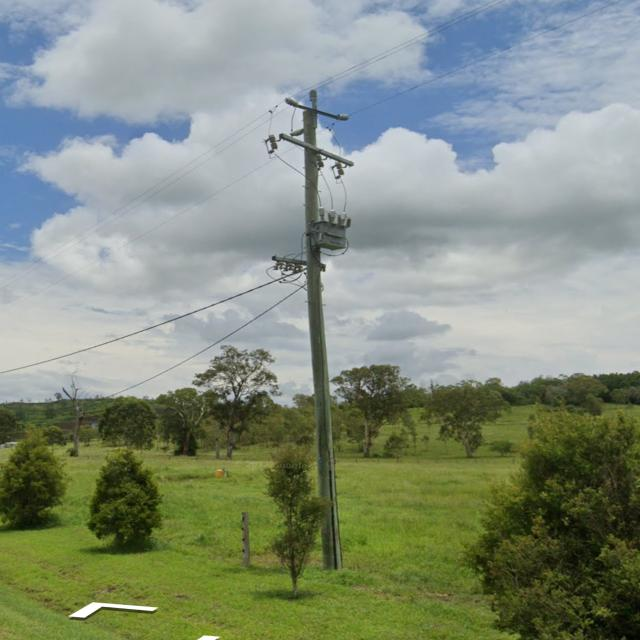HV-transmission: (263, 88, 354, 181)
crossarm: (278, 133, 355, 166), (273, 255, 326, 271), (296, 103, 340, 120)
timber-pole: (300, 109, 344, 568)
transformer: (309, 206, 352, 252)
